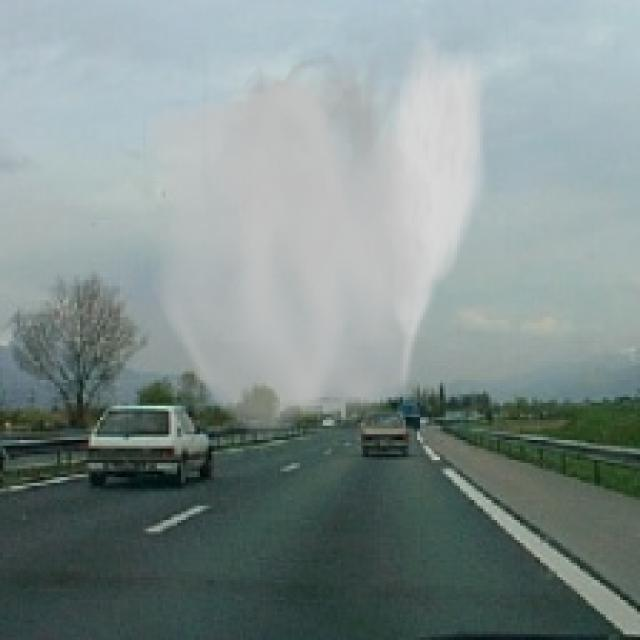smoke: (143, 29, 491, 448)
